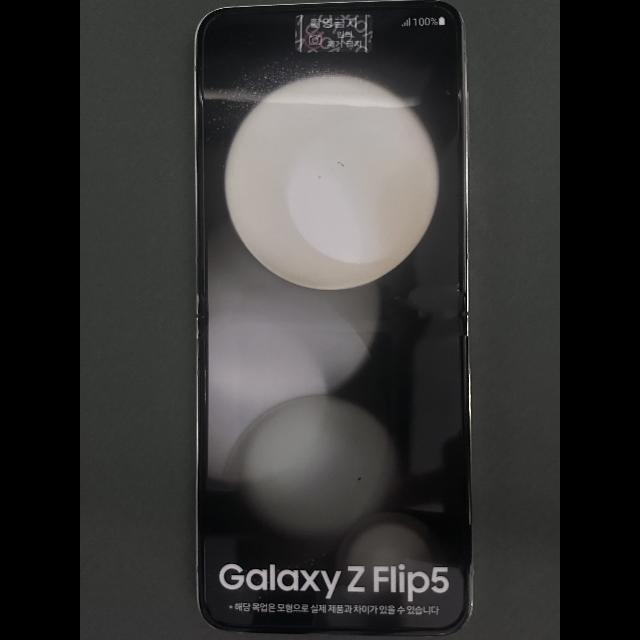phone: (195, 0, 471, 637)
sticker: (295, 14, 374, 55)
